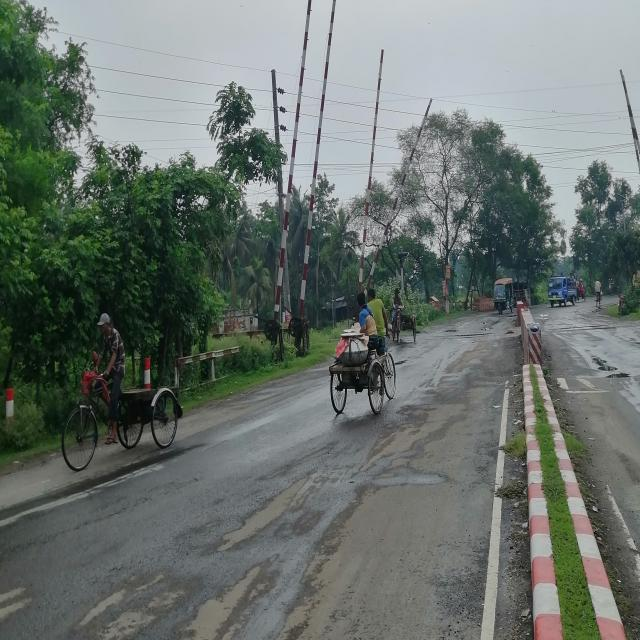Van: (57, 368, 185, 484), (319, 341, 405, 425)
